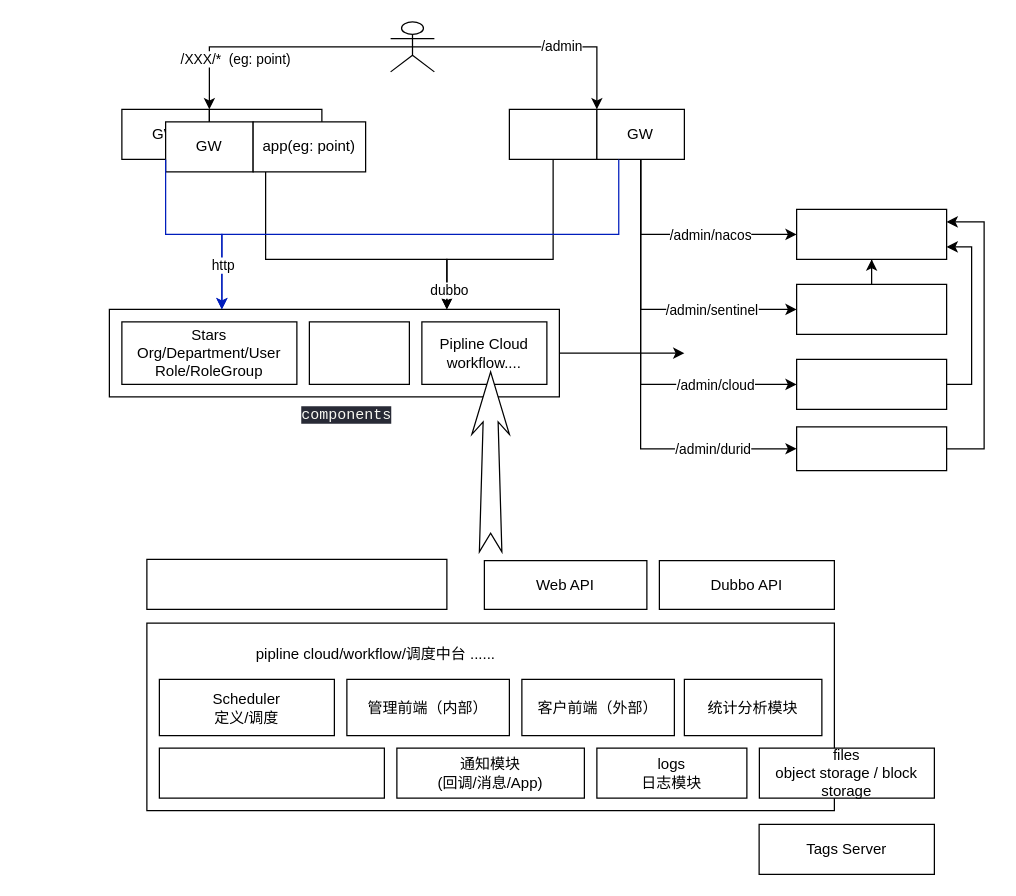
Image size: 1016x896. Some labels were removed from this diagram. The centre of each missing label's shape, as x and y in pixels:
"Actor" belongs at [411,46].
"admin app" belongs at [552,133].
"durid admin" belongs at [871,448].
"License" belongs at [358,352].
"matchine 运算资源模块" belongs at [271,772].
"Nacos" belongs at [871,233].
"sentinel deshboard" belongs at [871,308].
"spring cloud admin" belongs at [871,383].
"数据转换服务（新版和老版数据兼容）" belongs at [296,583].
